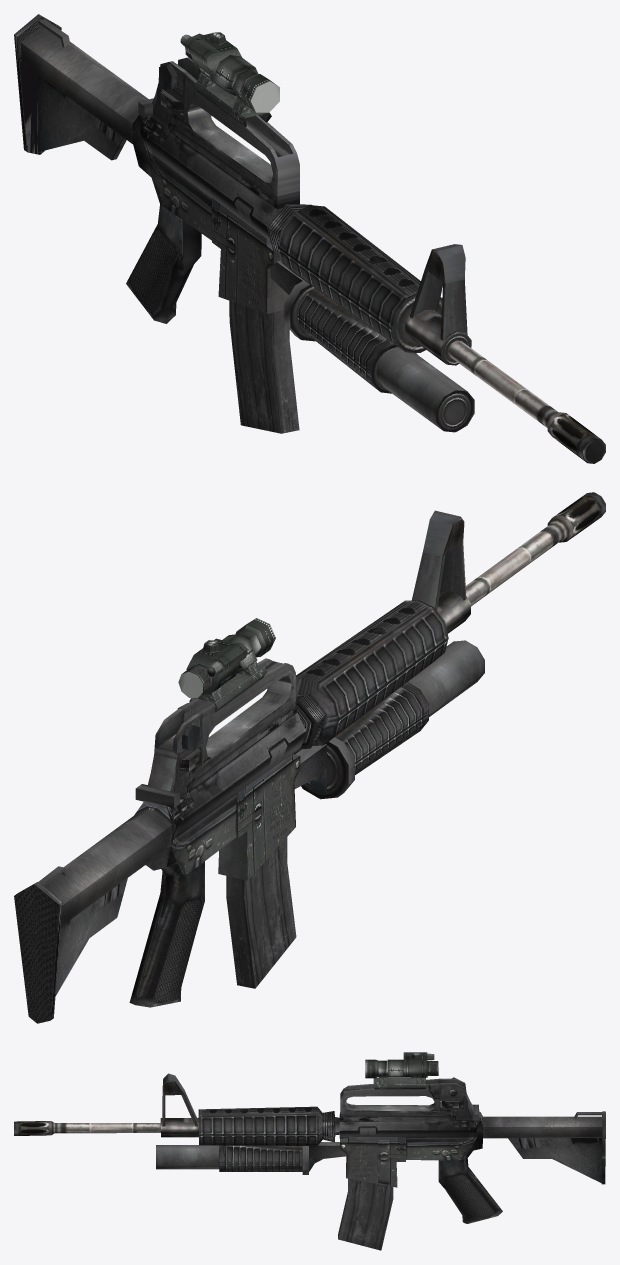
The picture shows the model from 3 angles, top to bottom: view 1: azimuth 30°, elevation 25°; view 2: azimuth 150°, elevation 25°; view 3: azimuth 270°, elevation 25°; orthographic projection. The views are drawn at different scales.
Visible parts, largest first — view 1: _cr203_3rd; view 2: _cr203_3rd; view 3: _cr203_3rd.
Boxes of the visible parts, x1=… form: _cr203_3rd: x1=14, y1=14, x2=605, y2=463; _cr203_3rd: x1=14, y1=492, x2=605, y2=1023; _cr203_3rd: x1=14, y1=1052, x2=605, y2=1250.
Bounding box in the file's own units: 0.0669 × 0.3633 × 1.
3 materials, 3 textured.
